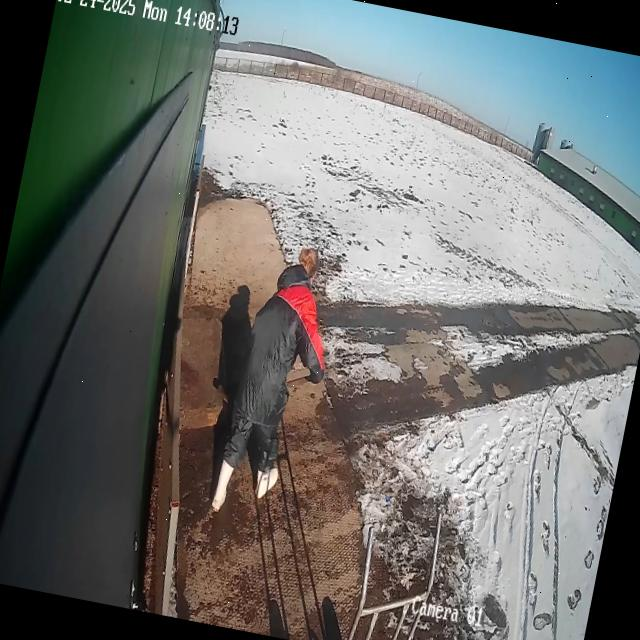Red uniform: (209, 248, 325, 513)
